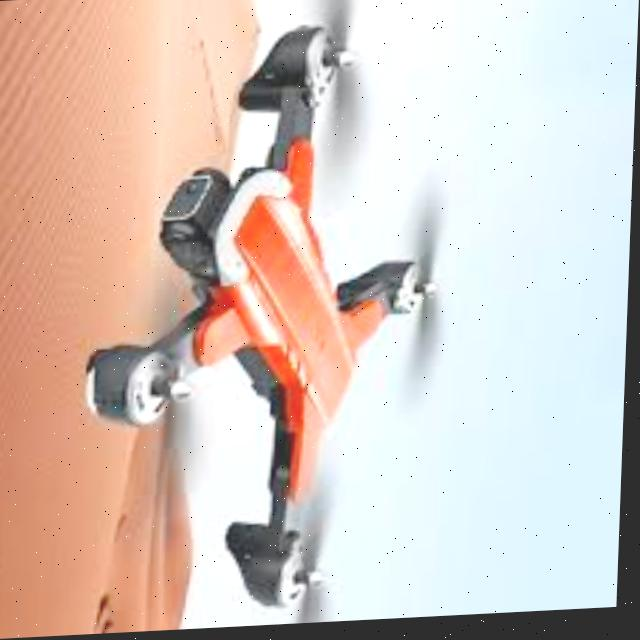drone: (81, 0, 496, 636)
